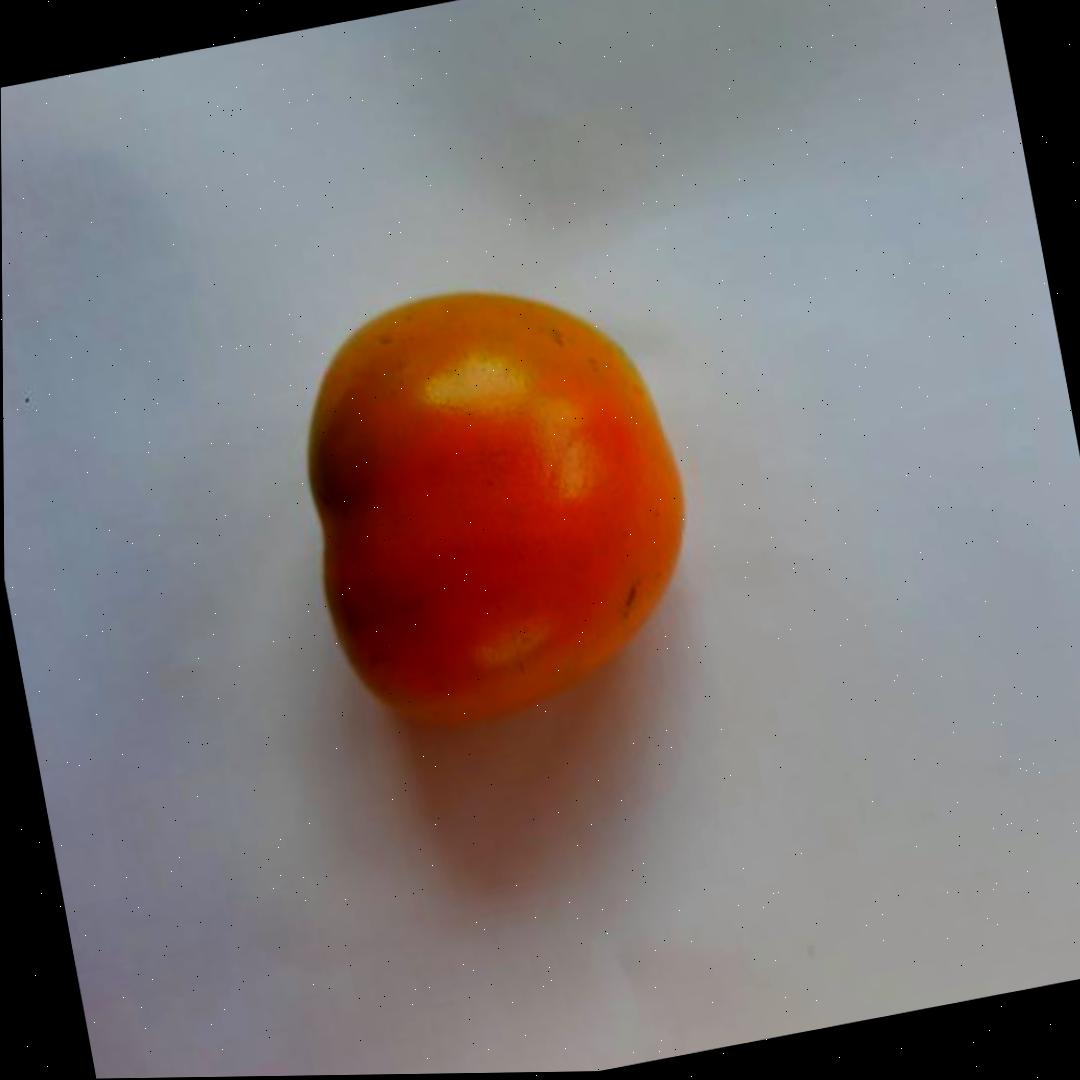setengah_matang: (271, 247, 721, 751)
